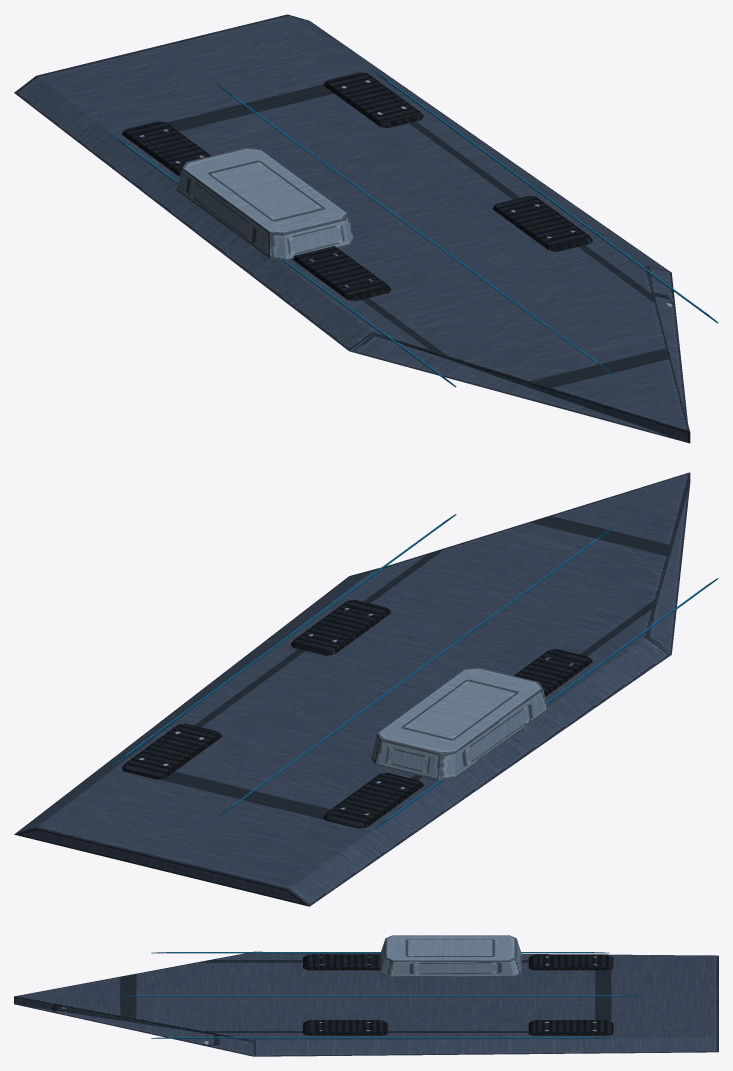
File: unit-carrier_unit.fbx
3 views of the same model, one above another, from view 1: azimuth 30°, elevation 25°; view 2: azimuth 150°, elevation 25°; view 3: azimuth 270°, elevation 25° (orthographic). The views are drawn at different scales.
Parts seen in each view (by area): view 1: unit-carrier_unit; view 2: unit-carrier_unit; view 3: unit-carrier_unit.
Boxes of the visible parts, box(x1,y1,x2,y2) form: unit-carrier_unit: box(14, 14, 718, 443); unit-carrier_unit: box(14, 472, 718, 906); unit-carrier_unit: box(14, 935, 718, 1056).
Size of the model in its own units: 2016 by 220 by 5720.
Materials: 1 (1 with a texture image).
